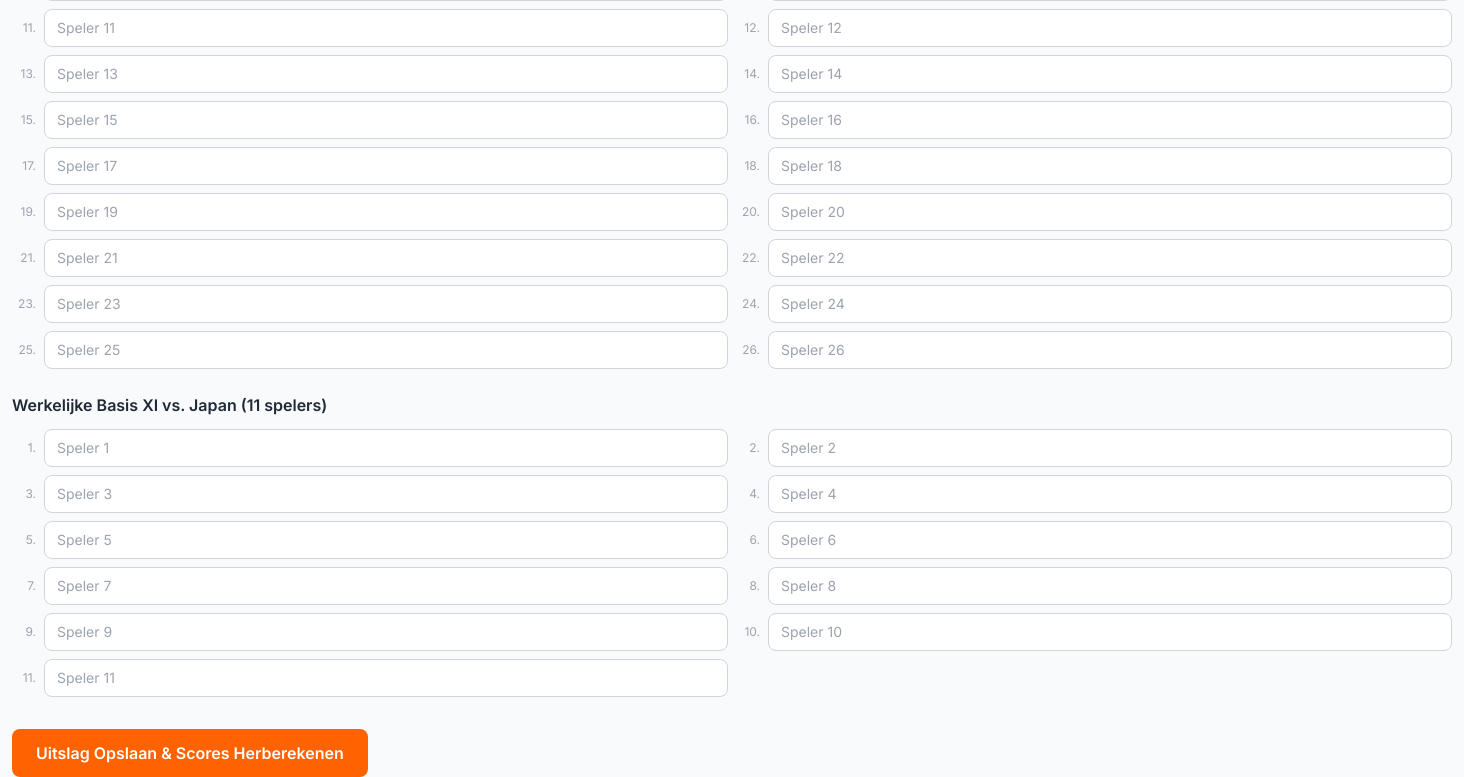
it: AdminUitslagForm › shows error when fetch fails
(page scrolled)
Click the button: (190, 753) [12,729,368,776]
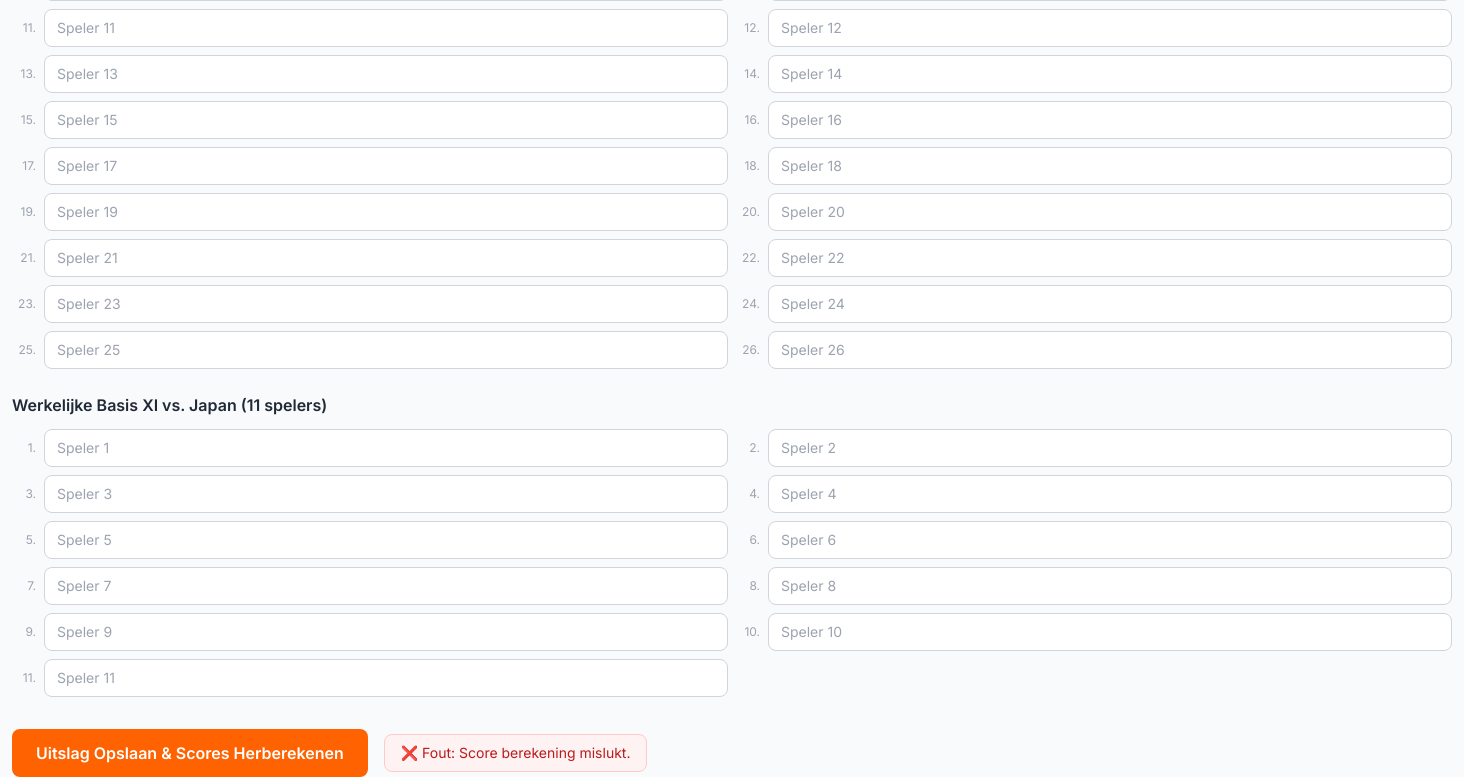
Result: the text "❌ Fout: Score berekening mislukt." is shown at [384,734,648,772]
